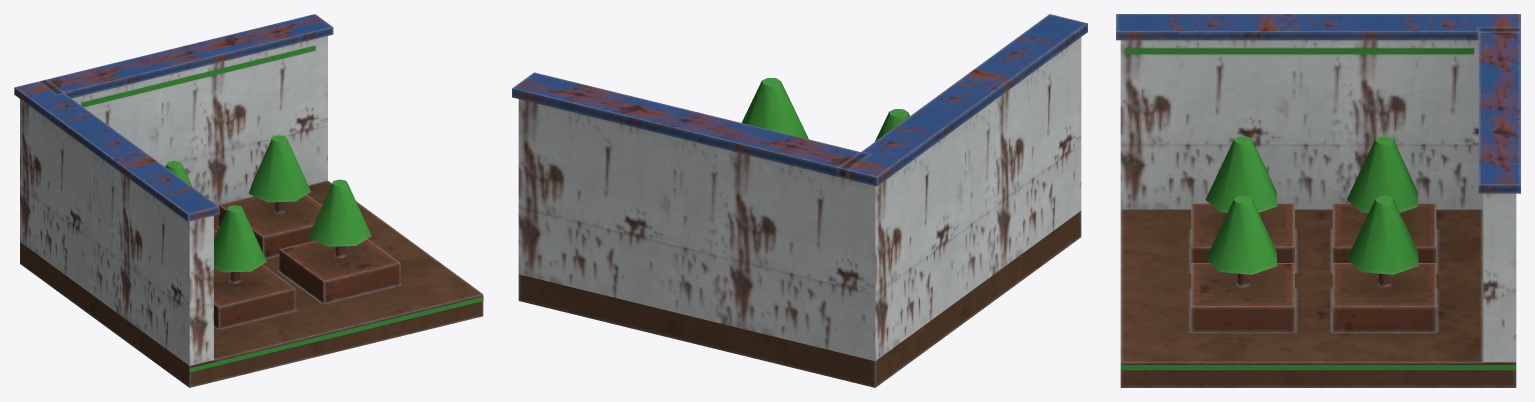
The model's file is botanical_garden.glb.
The picture shows the model from 3 angles, left to right: view 1: azimuth 30°, elevation 25°; view 2: azimuth 150°, elevation 25°; view 3: azimuth 270°, elevation 25°; orthographic projection. The views are drawn at different scales.
Visible parts, largest first — view 1: te_botanical_garden; view 2: te_botanical_garden; view 3: te_botanical_garden.
Boxes of the visible parts, left/top/right/bottom form: te_botanical_garden: left=14, top=14, right=483, bottom=387; te_botanical_garden: left=512, top=14, right=1087, bottom=387; te_botanical_garden: left=1116, top=14, right=1520, bottom=387.
Bounding box in the file's own units: 0.86 × 0.48 × 0.86.
Materials: 1 (1 with a texture image).
